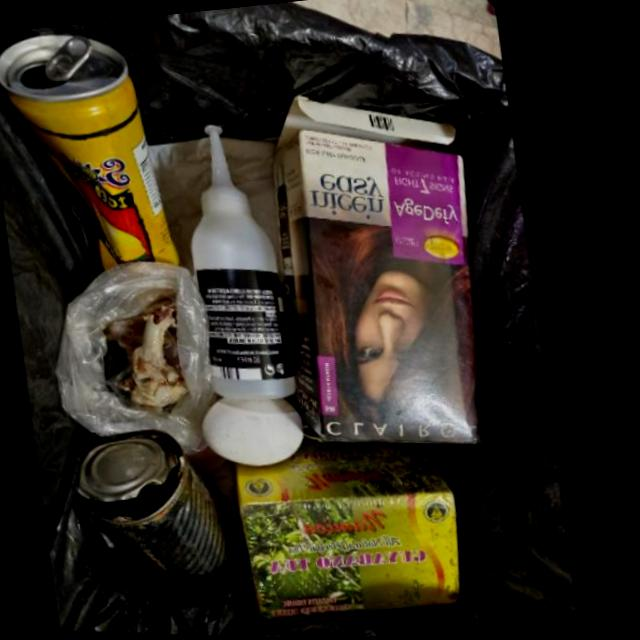chai_nhua: (201, 129, 300, 404)
nhom: (5, 42, 194, 280), (81, 439, 245, 582)
thuc_an_thua: (111, 316, 192, 418)
vo_hop_sua: (279, 101, 483, 446), (237, 444, 460, 622)
vo_trung: (206, 404, 307, 473)
